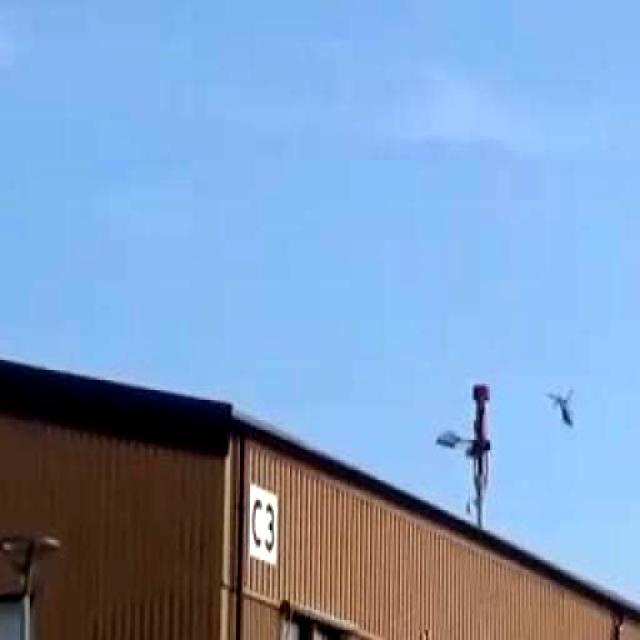drone: (539, 378, 589, 444)
